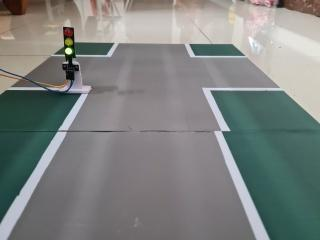green: (57, 18, 78, 60)
